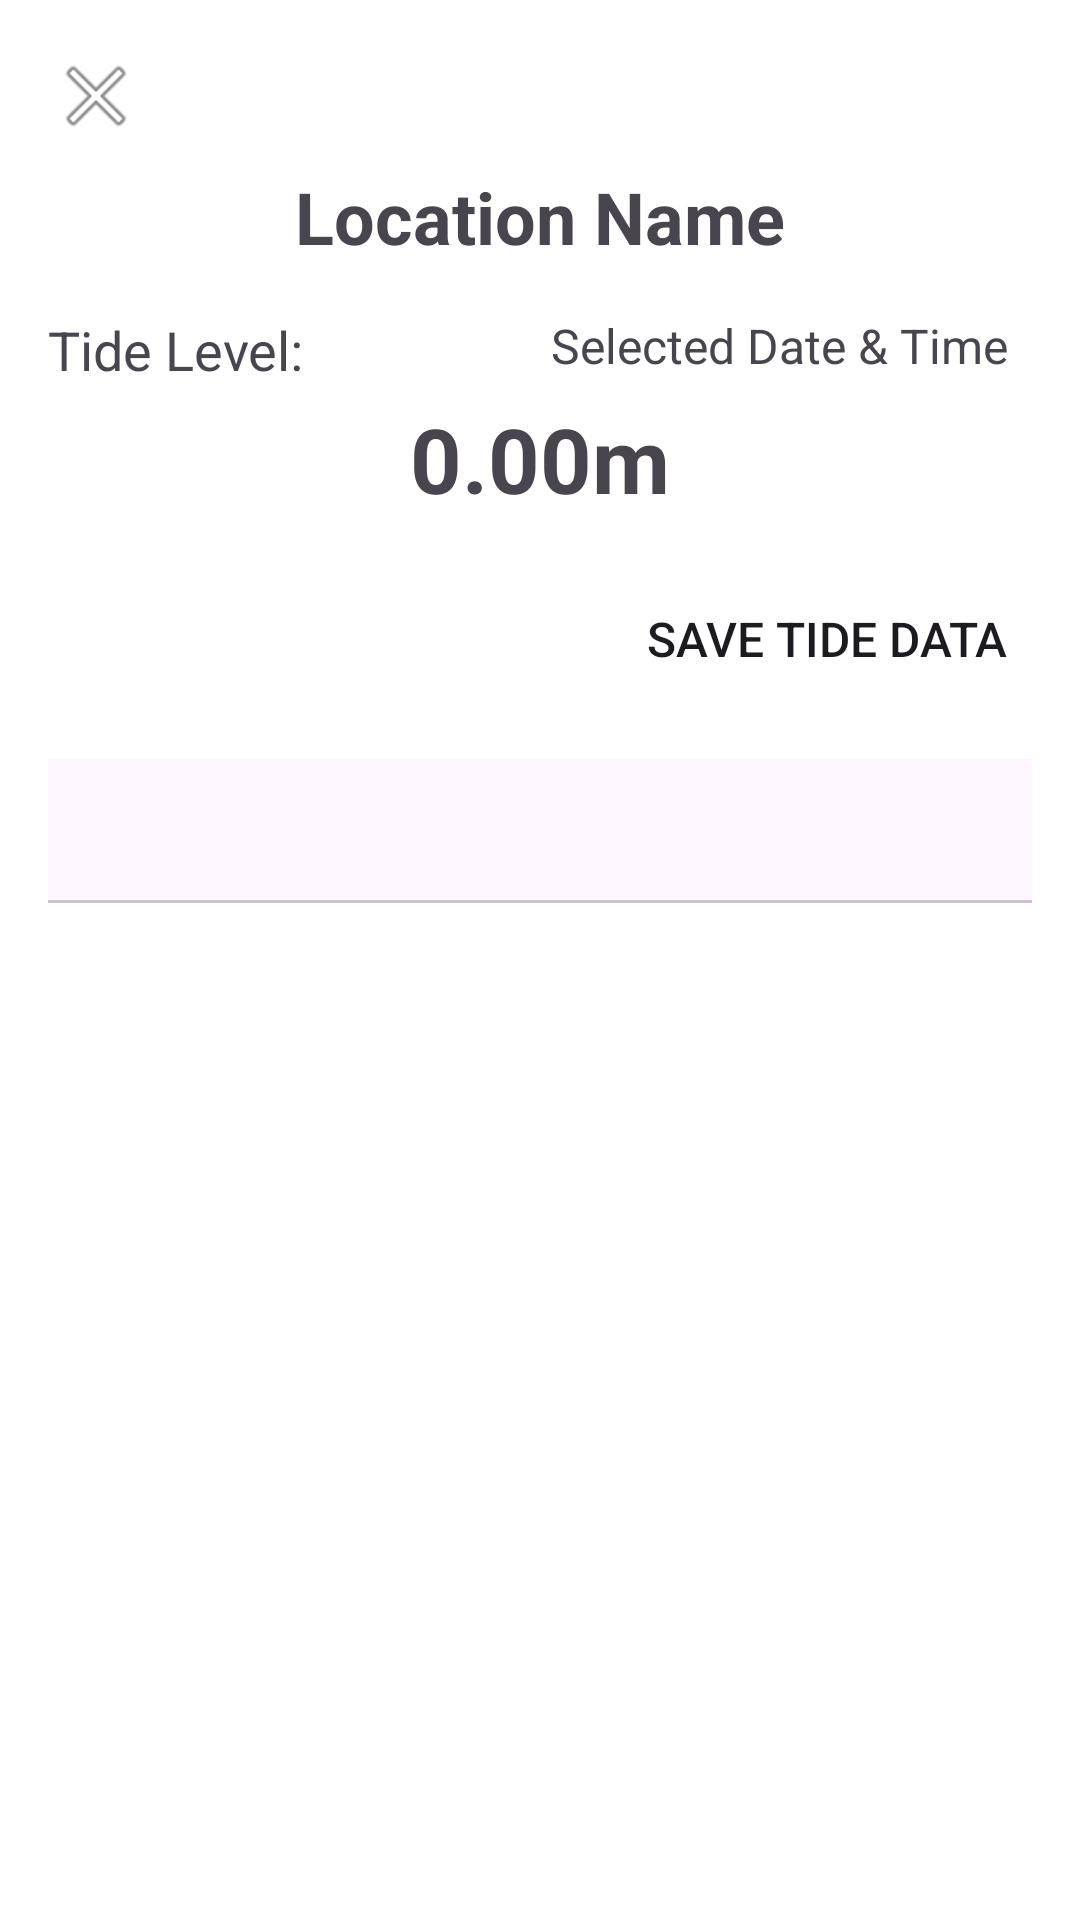

Where to tap for icons on this 1080w x 1920h app screen, as (x,y):
Close: (96,96)
